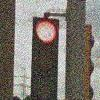traffic lights: (32, 16, 59, 100)
